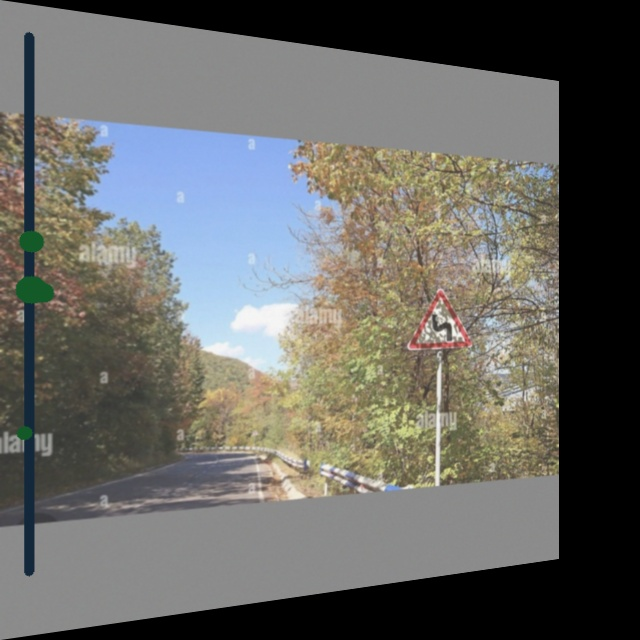Left_Reverse_Bend: (407, 285, 471, 354)
